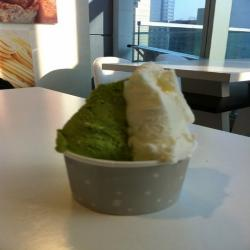icecream: (45, 60, 213, 226)
